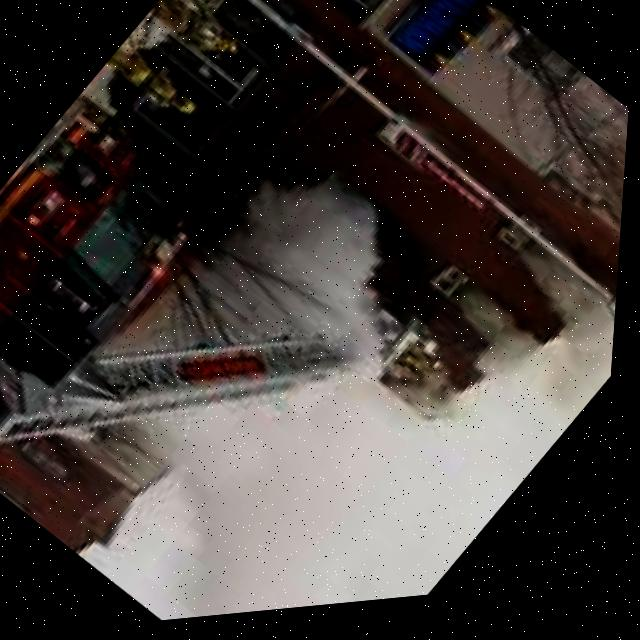Smoke: (8, 113, 631, 637), (427, 210, 626, 456)
